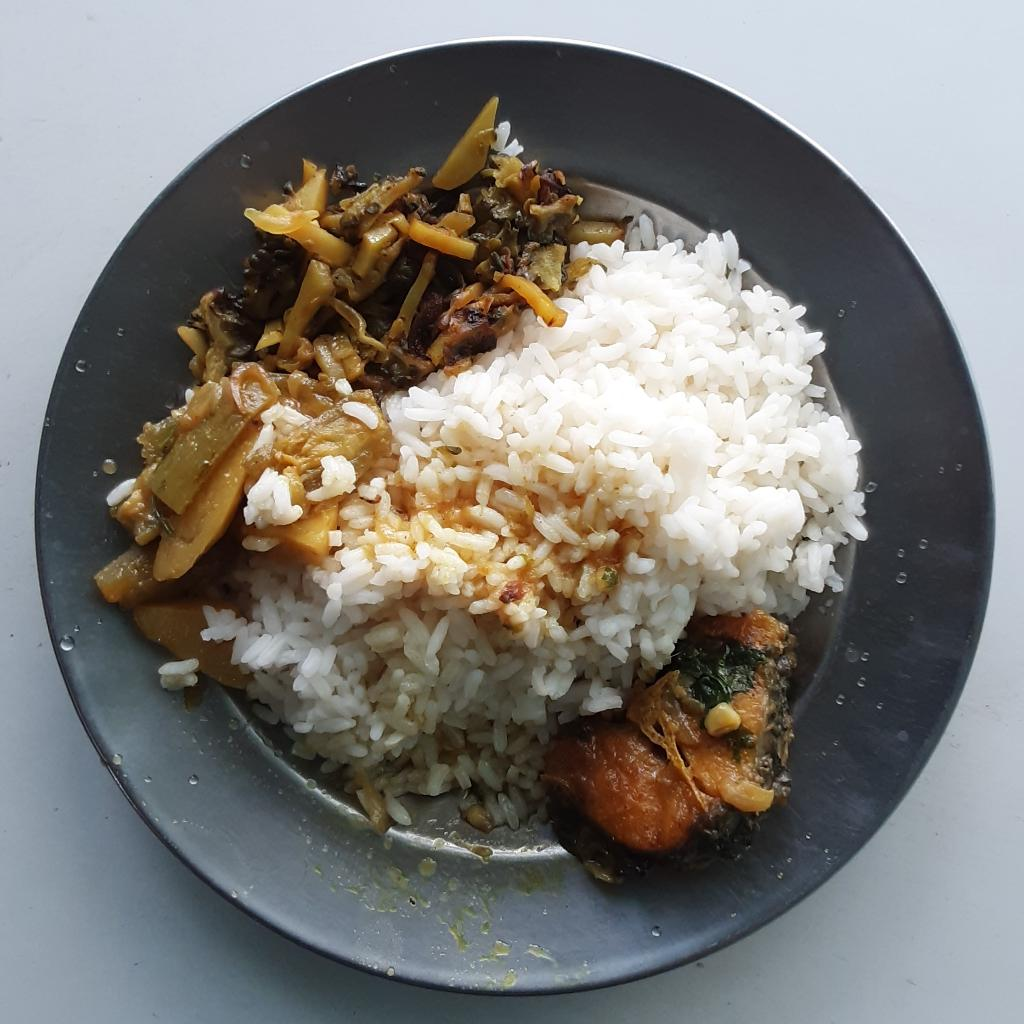dundol: (95, 365, 278, 606)
fish: (542, 619, 793, 895)
korola-vaji: (180, 101, 622, 400)
rice: (203, 210, 866, 831)
